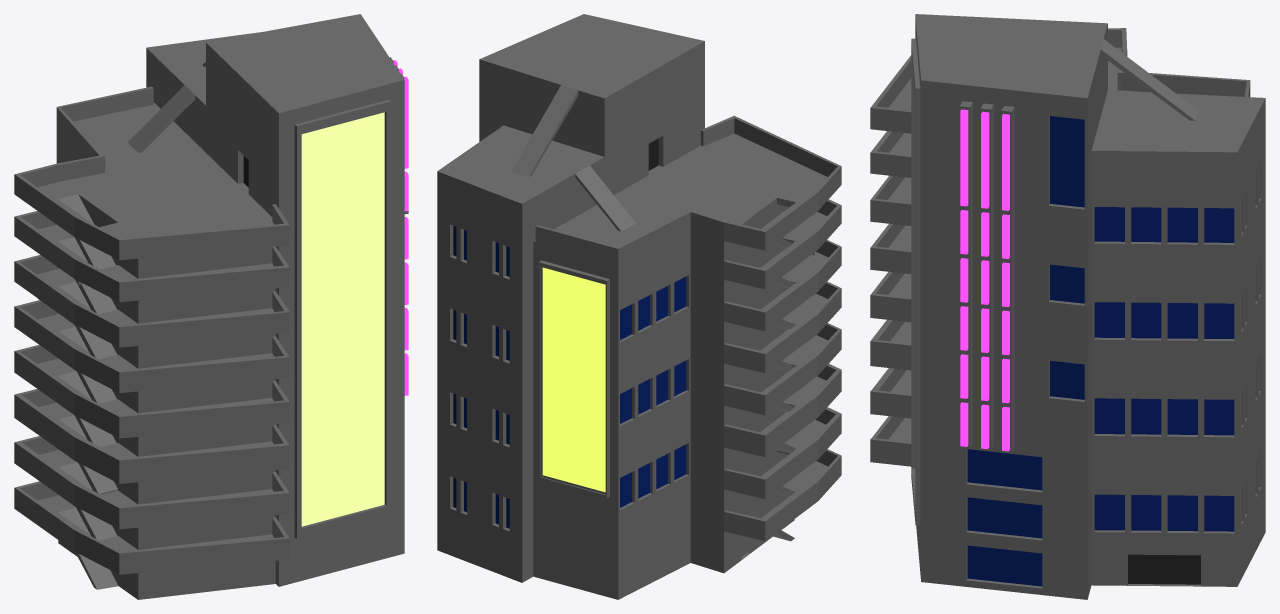
The model's file is newbuildstairsthingy.fbx.
3 views of the same model, side by side, from view 1: azimuth 30°, elevation 25°; view 2: azimuth 150°, elevation 25°; view 3: azimuth 270°, elevation 25° (orthographic). The views are drawn at different scales.
Visible parts, largest first — view 1: Cube.025; view 2: Cube.025; view 3: Cube.025.
Boxes of the visible parts, x1,y1,x2,y2 form: Cube.025: (14,14,408,599); Cube.025: (437,14,841,599); Cube.025: (870,14,1265,599).
Bounding box in the file's own units: 654 × 905 × 645.
